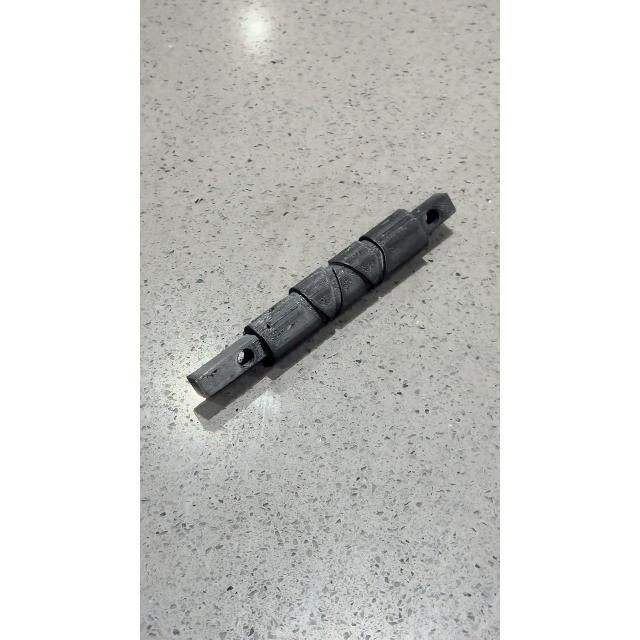Pieza1: (183, 186, 464, 412)
